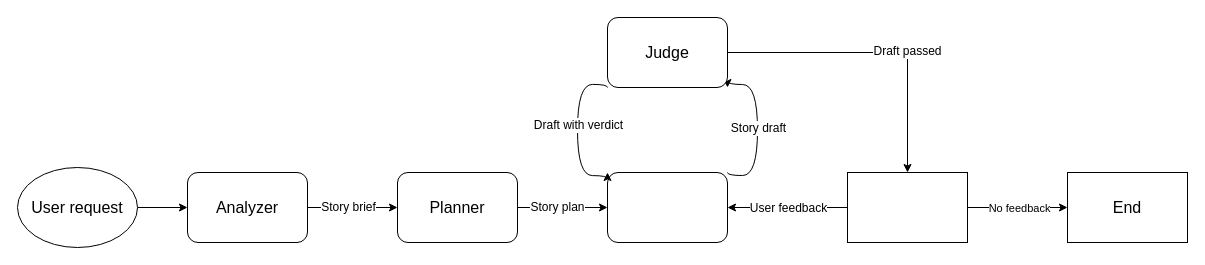
Some shapes in this 1205 by 265 pixel diagram are drawn without their labels. Each missing label, with the box of its shape:
Present: (846, 172, 968, 242)
Writer: (606, 172, 728, 242)
